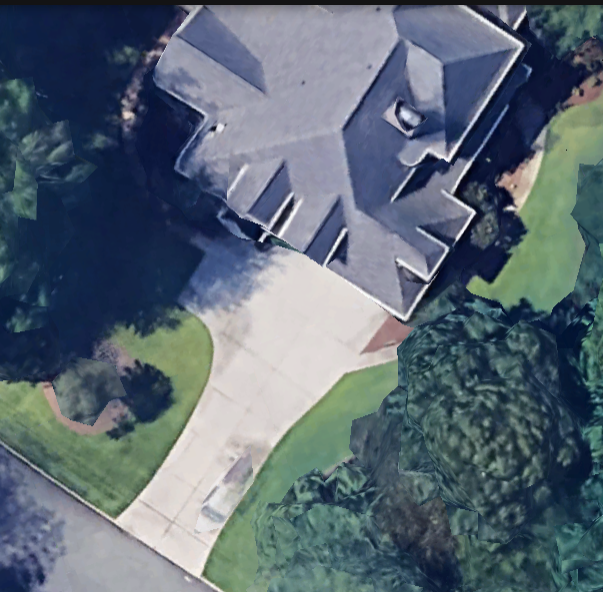driveway: (25, 190, 411, 592)
